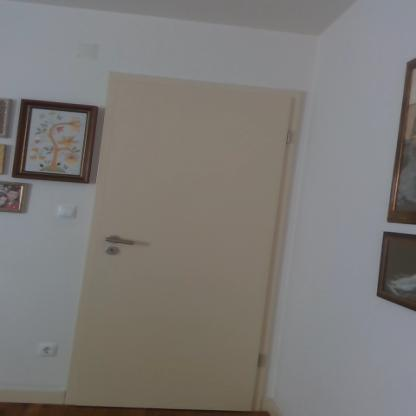closed: (97, 76, 312, 404)
